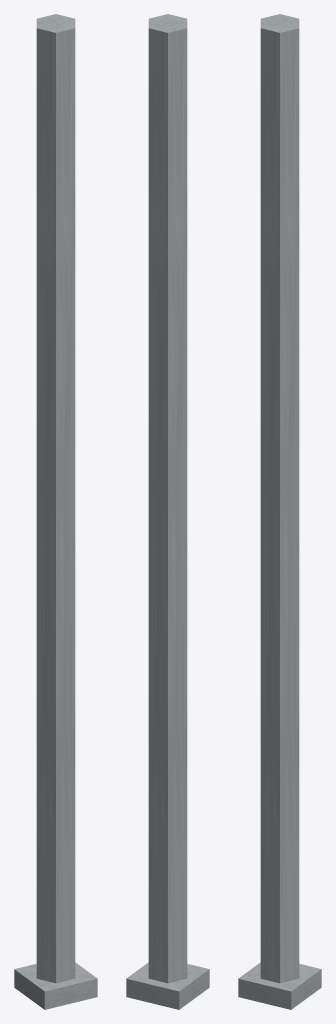
File: body.obj
The picture shows the model from 3 angles, left to right: view 1: azimuth 30°, elevation 25°; view 2: azimuth 150°, elevation 25°; view 3: azimuth 330°, elevation 25°; orthographic projection.
Bounding box in the file's own units: 0.06 × 1.05 × 0.06.
